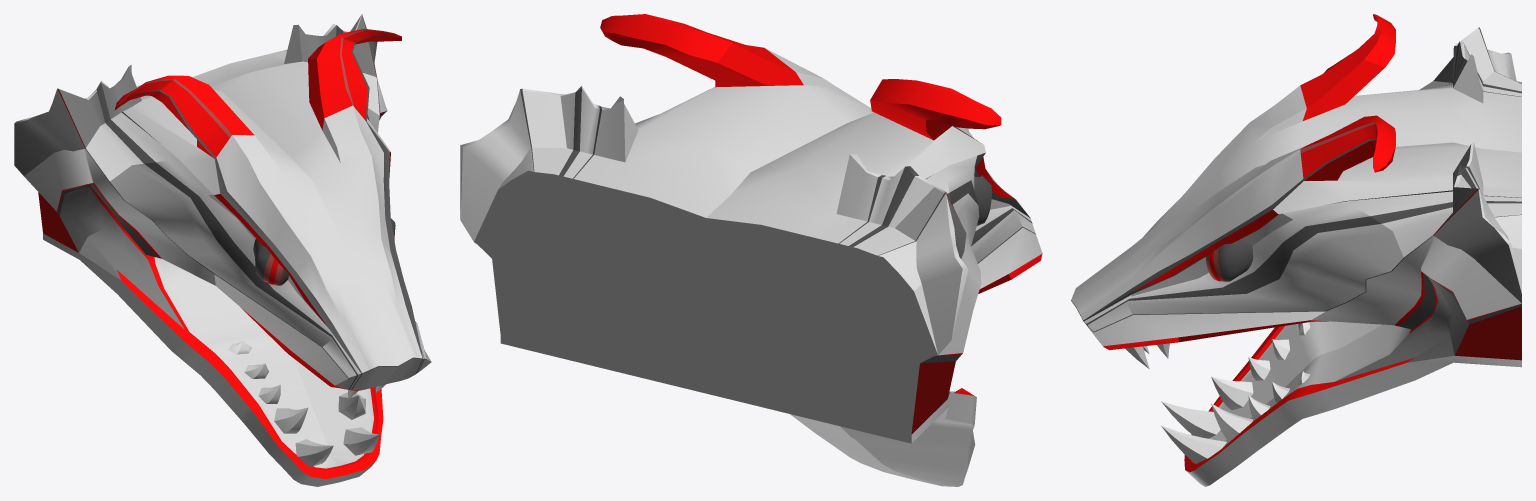
File: Snake_head_2.fbx
The picture shows the model from 3 angles, left to right: view 1: azimuth 30°, elevation 25°; view 2: azimuth 150°, elevation 25°; view 3: azimuth 270°, elevation 25°; orthographic projection. The views are drawn at different scales.
Visible parts, largest first — view 1: polySurface29; view 2: polySurface29; view 3: polySurface29.
Part boxes in pixels (x1=…): polySurface29: x1=14, y1=14, x2=431, y2=486; polySurface29: x1=460, y1=14, x2=1042, y2=486; polySurface29: x1=1071, y1=14, x2=1521, y2=486.
Bounding box in the file's own units: 6.28 × 6.05 × 6.2.
